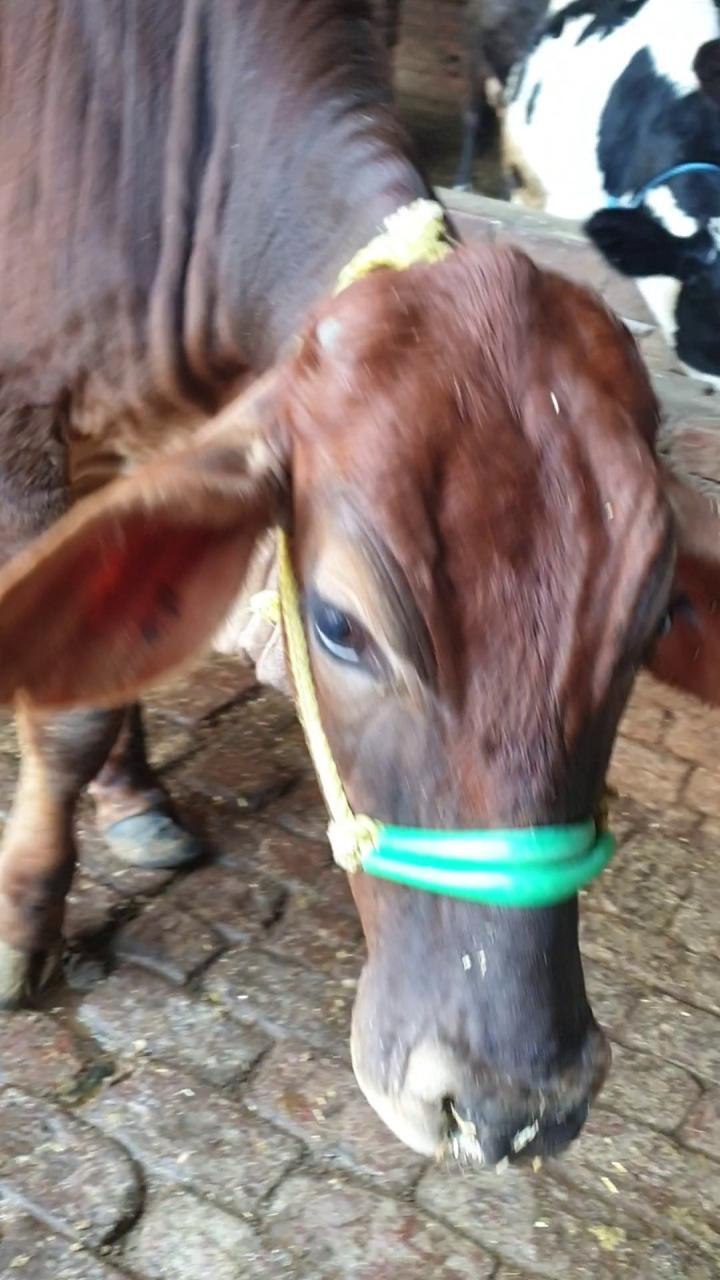cows: (267, 252, 698, 1180)
